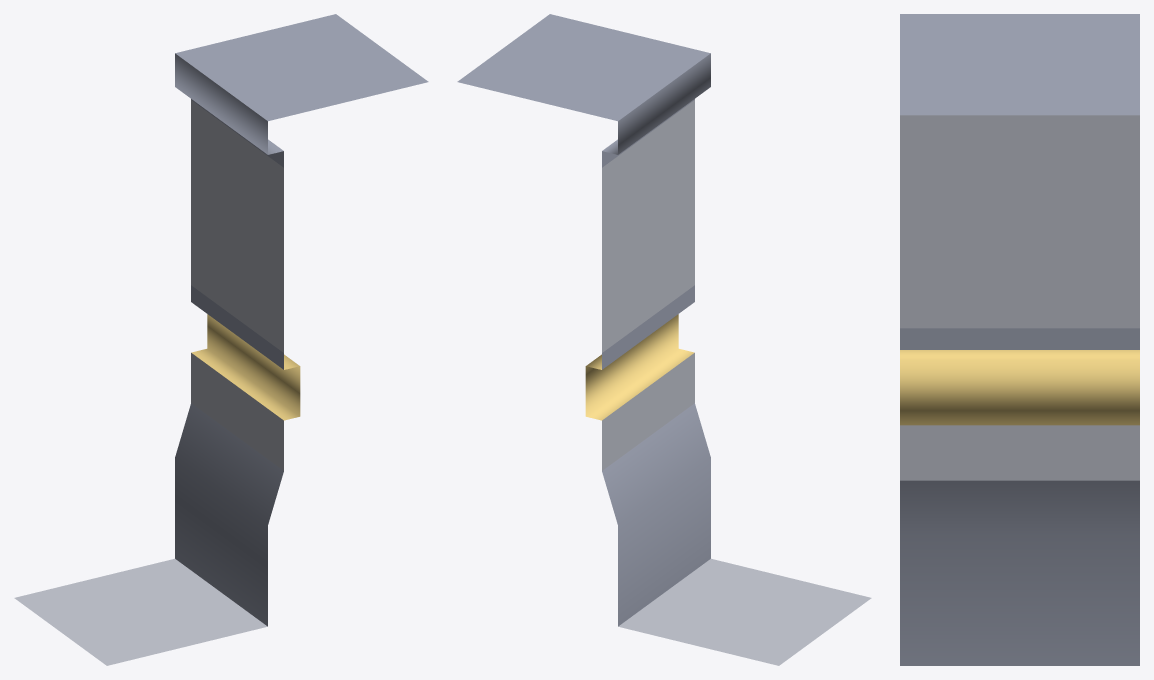
File: structure-wall.fbx
3 renders of one model, left to right at view 1: azimuth 30°, elevation 25°; view 2: azimuth 150°, elevation 25°; view 3: azimuth 270°, elevation 25°, orthographic. The views are drawn at different scales.
Visible parts, largest first — view 1: structure-wall; view 2: structure-wall; view 3: structure-wall.
Boxes of the visible parts, <box> form: structure-wall: <box>14,14,428,665</box>; structure-wall: <box>457,14,871,665</box>; structure-wall: <box>900,14,1139,665</box>.
Size of the model in its own units: 200 by 300 by 100.
